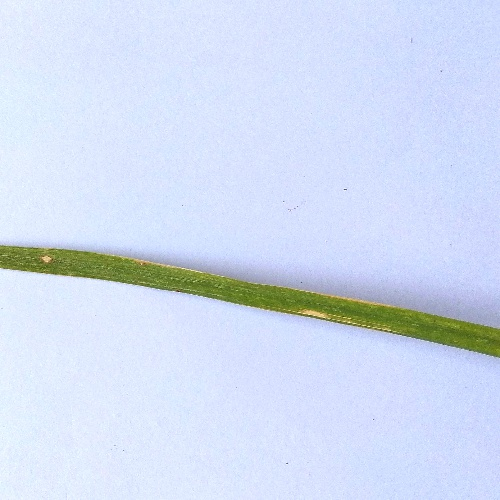Busuk Leher: (291, 299, 328, 332), (36, 250, 57, 268)
